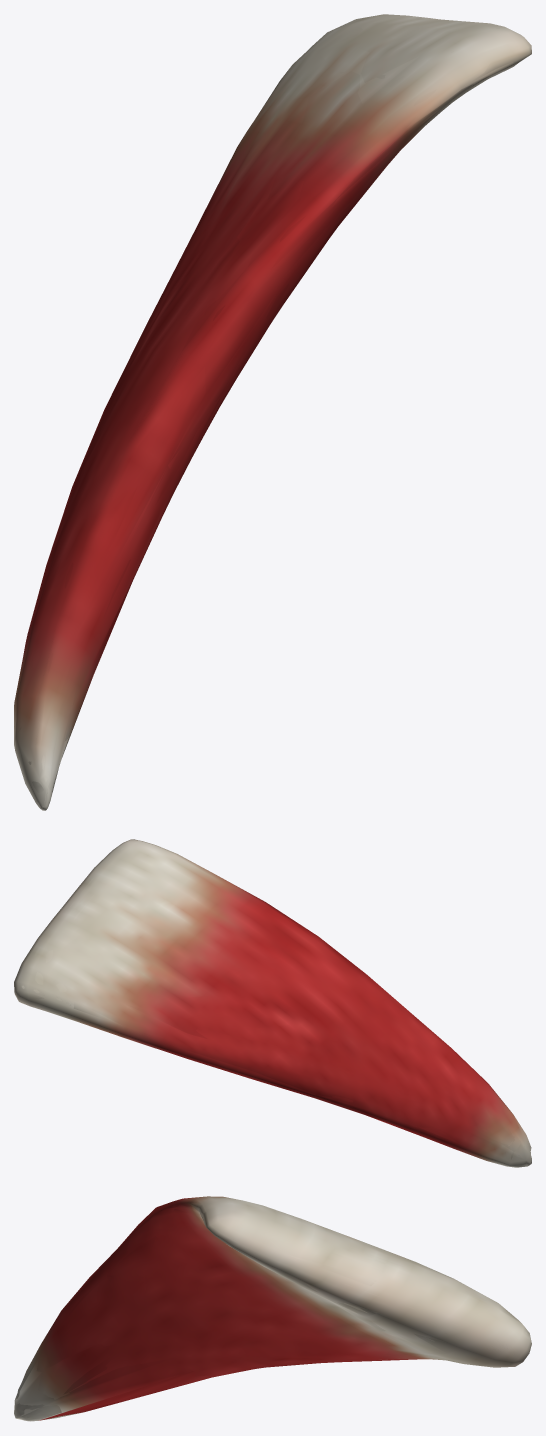
Rendered from R Gluteus Superficialis.fbx.
The picture shows the model from 3 angles, top to bottom: view 1: azimuth 30°, elevation 25°; view 2: azimuth 150°, elevation 25°; view 3: azimuth 270°, elevation 25°; orthographic projection. The views are drawn at different scales.
Visible parts, largest first — view 1: R Gluteus Superficialis, R Gluteus Superficialis low, R Gluteus Superficialis high; view 2: R Gluteus Superficialis, R Gluteus Superficialis low, R Gluteus Superficialis high; view 3: R Gluteus Superficialis, R Gluteus Superficialis low, R Gluteus Superficialis high.
Part boxes in pixels (x1,y1,x2,y2): R Gluteus Superficialis: (14,14,531,810); R Gluteus Superficialis low: (14,16,531,809); R Gluteus Superficialis high: (14,20,518,805); R Gluteus Superficialis: (14,839,531,1167); R Gluteus Superficialis low: (14,848,531,1162); R Gluteus Superficialis high: (21,844,531,1162); R Gluteus Superficialis: (14,1196,531,1421); R Gluteus Superficialis low: (14,1202,530,1420); R Gluteus Superficialis high: (15,1198,527,1420).
Size of the model in its own units: 3 by 2.37 by 2.53.
